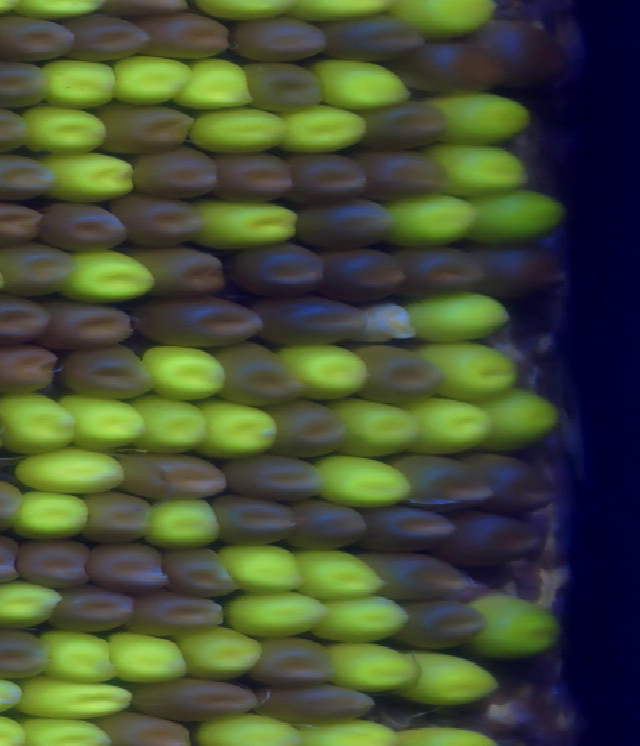fluorescent: (181, 194, 309, 249), (405, 643, 505, 713), (324, 638, 428, 705), (414, 339, 522, 399), (467, 591, 558, 660), (178, 619, 273, 684), (471, 383, 564, 446), (310, 54, 412, 109), (289, 544, 391, 599), (400, 295, 516, 342), (21, 674, 147, 717), (469, 186, 571, 239), (224, 586, 326, 639), (313, 454, 411, 509), (198, 396, 280, 461), (56, 393, 148, 450), (126, 396, 216, 454), (429, 94, 540, 141), (99, 628, 189, 684), (438, 141, 530, 195), (110, 51, 198, 107), (331, 402, 416, 459), (6, 453, 132, 491), (0, 393, 76, 455), (46, 151, 138, 202), (383, 191, 469, 245), (5, 489, 94, 541), (193, 106, 291, 153), (413, 394, 492, 452), (21, 103, 109, 155), (285, 349, 371, 402), (61, 252, 150, 303), (310, 596, 413, 640), (221, 544, 309, 594), (38, 59, 119, 109), (43, 629, 114, 686), (145, 346, 224, 397), (140, 501, 229, 546), (284, 106, 365, 155), (176, 61, 255, 110), (398, 1, 493, 39), (0, 583, 65, 632), (191, 719, 299, 746), (11, 718, 114, 746), (185, 1, 294, 24), (297, 1, 393, 23)
nonfluorescent: (128, 296, 270, 347), (366, 550, 502, 603), (472, 16, 572, 88), (252, 293, 375, 346), (394, 37, 505, 93), (96, 98, 198, 158), (133, 676, 259, 723), (227, 15, 338, 68), (109, 196, 209, 254), (213, 345, 303, 405), (469, 452, 559, 512), (400, 457, 497, 512), (313, 14, 428, 60), (128, 144, 219, 202), (293, 199, 399, 248), (364, 145, 455, 202), (116, 452, 233, 496), (134, 247, 232, 299), (438, 515, 544, 563), (285, 153, 373, 208), (242, 62, 332, 115), (160, 544, 240, 603), (83, 540, 172, 593), (359, 348, 446, 401), (319, 250, 413, 299), (395, 248, 486, 298), (46, 301, 138, 350), (210, 152, 297, 203), (35, 201, 127, 249), (0, 238, 73, 298), (65, 350, 158, 397), (208, 493, 296, 542), (65, 12, 152, 61), (44, 587, 135, 633), (12, 538, 94, 589), (141, 16, 231, 62), (483, 248, 568, 296), (228, 455, 327, 496), (241, 243, 325, 291), (255, 686, 371, 720), (133, 593, 235, 631), (366, 508, 460, 549), (406, 603, 487, 650), (369, 107, 454, 151), (287, 503, 367, 549), (274, 401, 344, 453), (98, 713, 203, 746), (0, 194, 53, 257), (0, 17, 76, 60), (0, 153, 62, 205), (255, 641, 332, 681), (89, 494, 153, 542), (0, 347, 63, 394), (0, 295, 52, 349), (0, 60, 52, 111), (0, 630, 53, 679), (0, 104, 34, 155)
